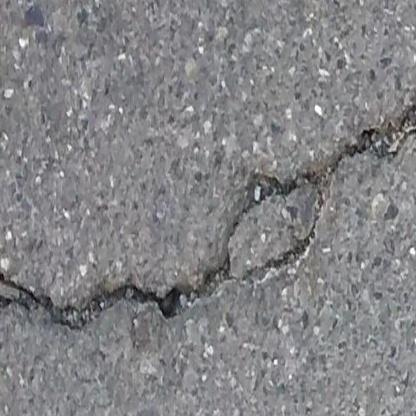Cracks: (0, 94, 416, 329)
